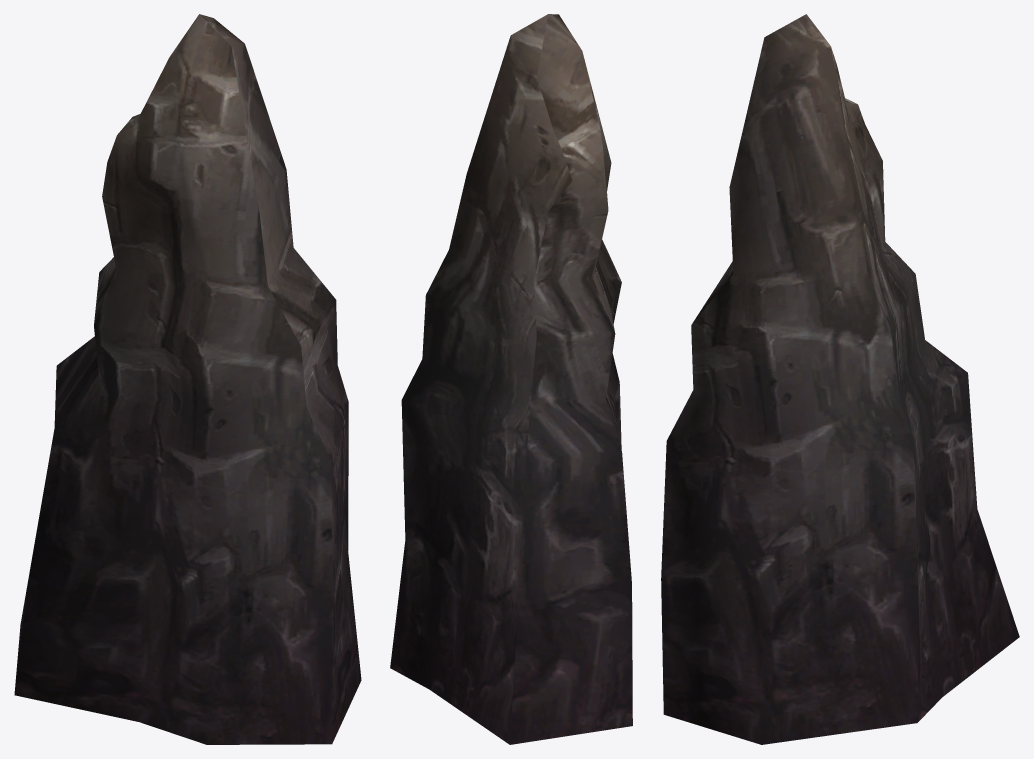
Rendered from environment_stone_qiaobi_002_a.FBX.
3 renders of one model, left to right at view 1: azimuth 30°, elevation 25°; view 2: azimuth 150°, elevation 25°; view 3: azimuth 270°, elevation 25°, orthographic. The views are drawn at different scales.
Parts seen in each view (by area): view 1: environment_stone_qiaobi_002_a; view 2: environment_stone_qiaobi_002_a; view 3: environment_stone_qiaobi_002_a.
Boxes of the visible parts, x1,y1,x2,y2 form: environment_stone_qiaobi_002_a: [14, 14, 361, 744]; environment_stone_qiaobi_002_a: [390, 14, 632, 744]; environment_stone_qiaobi_002_a: [661, 14, 1019, 744].
Size of the model in its own units: 307 by 734 by 355.
1 material, 1 textured.
